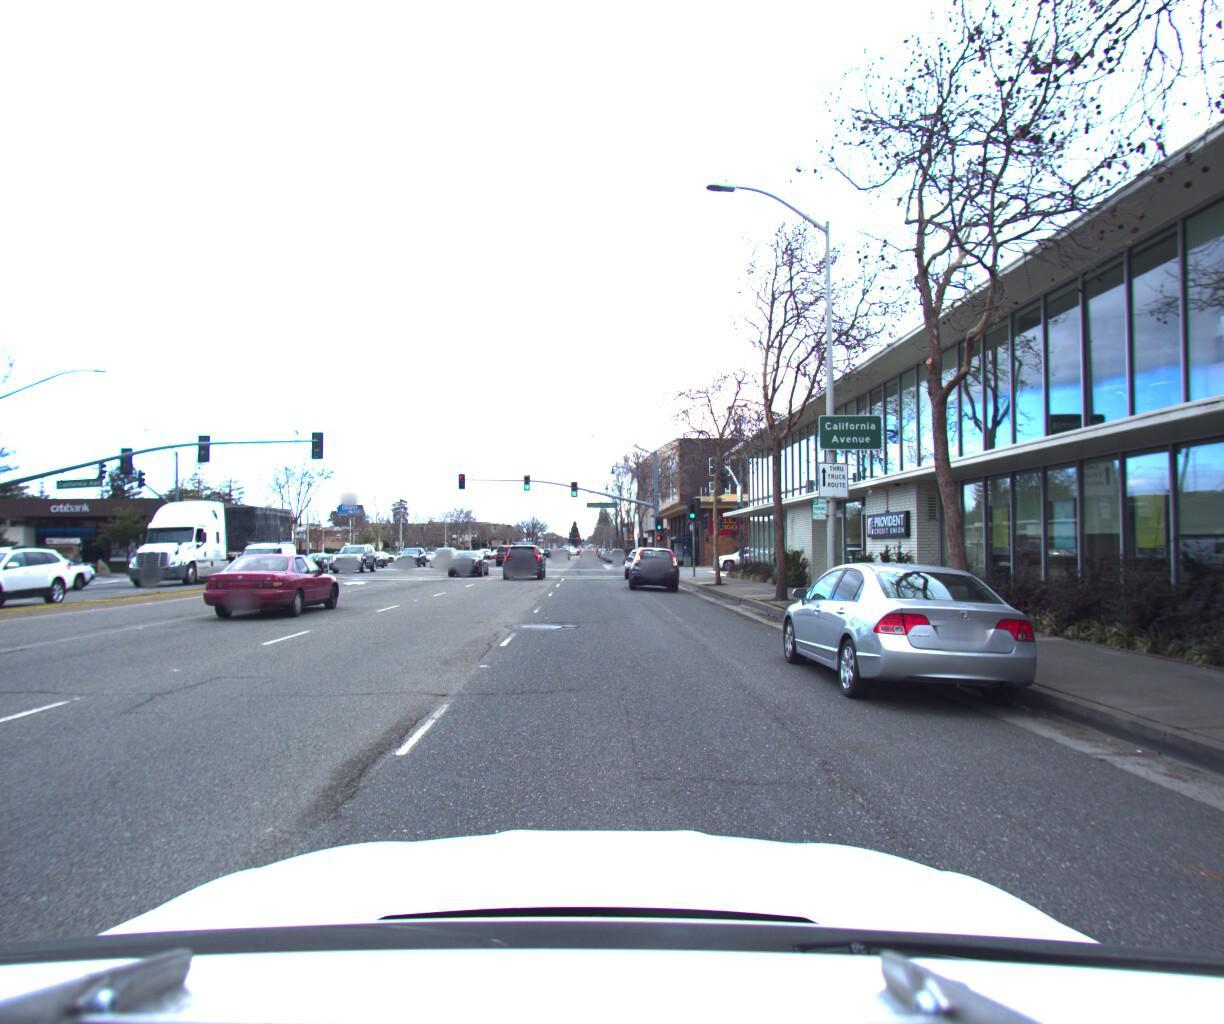car: (766, 550, 1065, 723), (206, 543, 351, 618), (232, 535, 306, 579), (627, 538, 681, 585), (623, 535, 679, 573), (706, 537, 776, 564), (501, 533, 548, 573), (444, 541, 494, 569), (330, 541, 376, 570), (425, 539, 464, 561), (491, 532, 519, 555), (397, 542, 430, 561)
truck: (117, 483, 322, 588)
